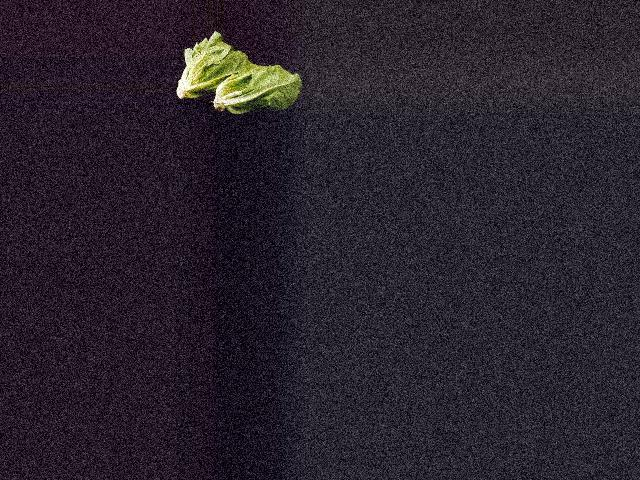lettuce: (176, 32, 263, 108)
